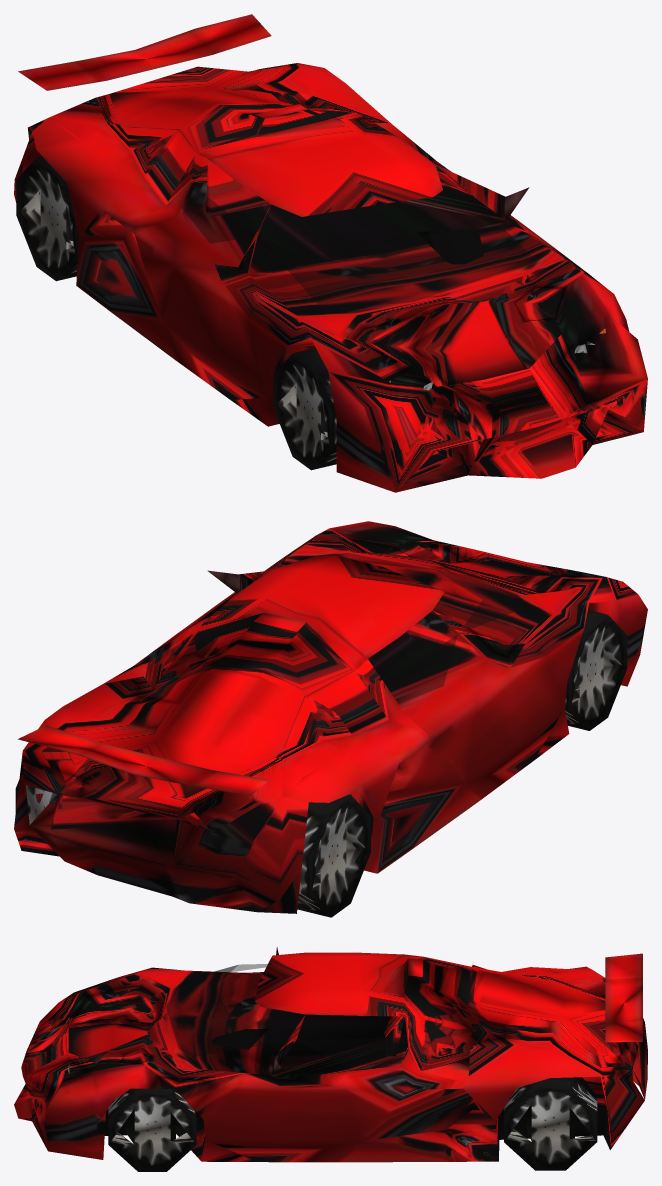
The model's file is sport_far.glb.
3 views of the same model, one above another, from view 1: azimuth 30°, elevation 25°; view 2: azimuth 150°, elevation 25°; view 3: azimuth 270°, elevation 25° (orthographic). The views are drawn at different scales.
Parts seen in each view (by area): view 1: body, wheel_fr, wheel_rr; view 2: body, wheel_rr, wheel_fr, wheel_rl; view 3: body, wheel_rl, wheel_fl.
Part boxes in pixels (x1,y1,x2,y2): body: (14,14,647,492); wheel_fr: (273,348,336,470); wheel_rr: (16,156,78,281); body: (14,521,647,913); wheel_rr: (297,794,370,917); wheel_fr: (564,609,627,730); wheel_rl: (15,779,57,824); body: (14,947,647,1162); wheel_rl: (504,1077,597,1170); wheel_fl: (108,1088,196,1171).
Bounding box in the file's own units: 2.01 × 1.16 × 4.49.
Materials: 4 (3 with a texture image).
